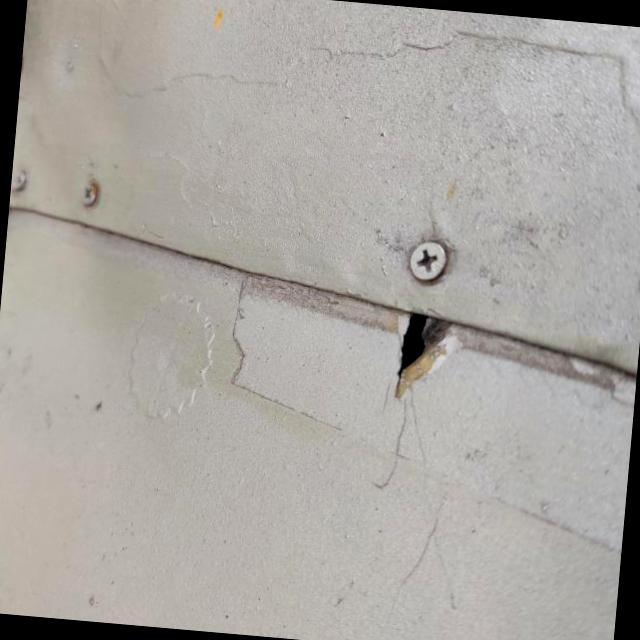crack: (355, 278, 492, 424)
